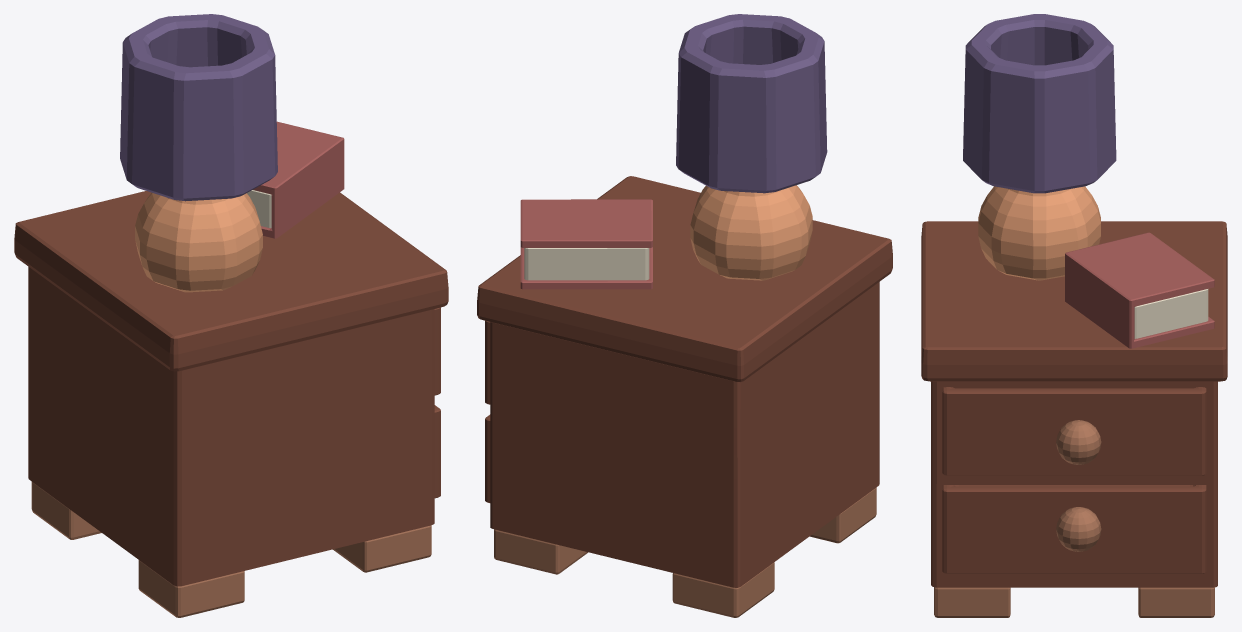
File: Bedroom_Bedstand1.fbx
3 renders of one model, left to right at view 1: azimuth 30°, elevation 25°; view 2: azimuth 150°, elevation 25°; view 3: azimuth 270°, elevation 25°, orthographic. The views are drawn at different scales.
Visible parts, largest first — view 1: Bedroom_Bedstand1.002, Bedroom_Bedstand1, Bedroom_Bedstand1.005, Bedroom_Bedstand1.003, Bedroom_Bedstand1.004, Bedroom_Bedstand1.001; view 2: Bedroom_Bedstand1.002, Bedroom_Bedstand1, Bedroom_Bedstand1.005, Bedroom_Bedstand1.004, Bedroom_Bedstand1.003, Bedroom_Bedstand1.001; view 3: Bedroom_Bedstand1.002, Bedroom_Bedstand1, Bedroom_Bedstand1.004, Bedroom_Bedstand1.005, Bedroom_Bedstand1.003, Bedroom_Bedstand1.001.
Part boxes in pixels (box(x1,y1,x2,y2)): Bedroom_Bedstand1.002: box(14, 191, 448, 586); Bedroom_Bedstand1: box(120, 14, 277, 201); Bedroom_Bedstand1.005: box(135, 193, 262, 292); Bedroom_Bedstand1.003: box(31, 482, 431, 617); Bedroom_Bedstand1.004: box(253, 121, 344, 238); Bedroom_Bedstand1.001: box(247, 190, 271, 228); Bedroom_Bedstand1.002: box(477, 176, 892, 587); Bedroom_Bedstand1: box(676, 14, 827, 193); Bedroom_Bedstand1.005: box(690, 185, 812, 280); Bedroom_Bedstand1.004: box(520, 199, 652, 289); Bedroom_Bedstand1.003: box(494, 487, 876, 617); Bedroom_Bedstand1.001: box(524, 248, 649, 280); Bedroom_Bedstand1.002: box(921, 221, 1227, 587); Bedroom_Bedstand1: box(963, 14, 1116, 193); Bedroom_Bedstand1.004: box(1065, 232, 1214, 348); Bedroom_Bedstand1.005: box(978, 186, 1100, 280); Bedroom_Bedstand1.003: box(934, 420, 1214, 617); Bedroom_Bedstand1.001: box(1134, 289, 1208, 338).
Size of the model in its own units: 55.55 by 98.72 by 63.35.
